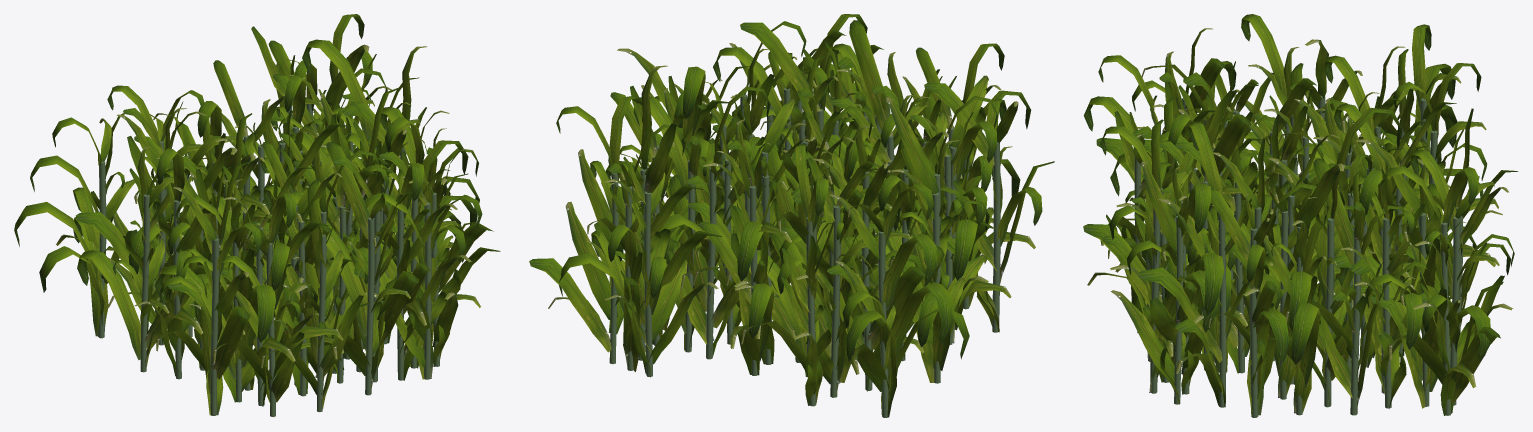
File: milharal7x7_denso.fbx
The picture shows the model from 3 angles, left to right: view 1: azimuth 30°, elevation 25°; view 2: azimuth 150°, elevation 25°; view 3: azimuth 270°, elevation 25°; orthographic projection. The views are drawn at different scales.
Visible parts, largest first — view 1: Plantacao2; view 2: Plantacao2; view 3: Plantacao2.
Part boxes in pixels (<box>): Plantacao2: <box>14,14,500,416</box>; Plantacao2: <box>529,14,1054,417</box>; Plantacao2: <box>1083,14,1518,417</box>.
Bounding box in the file's own units: 1038 × 660 × 917.
